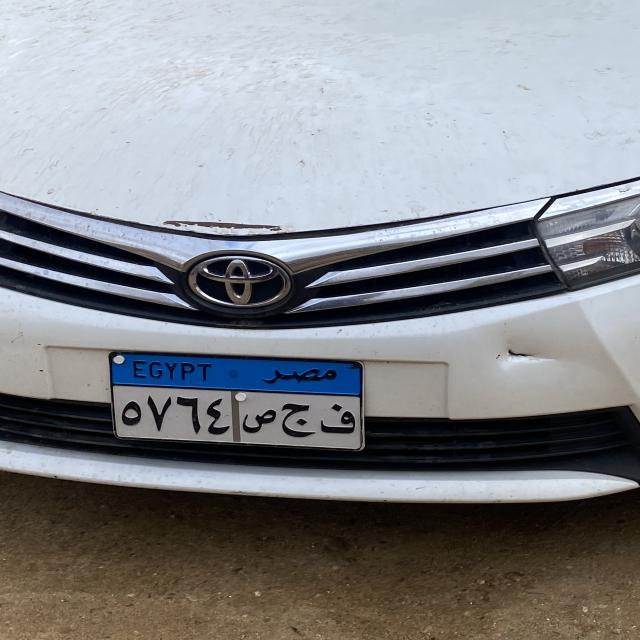License Plate: (112, 352, 363, 451)
